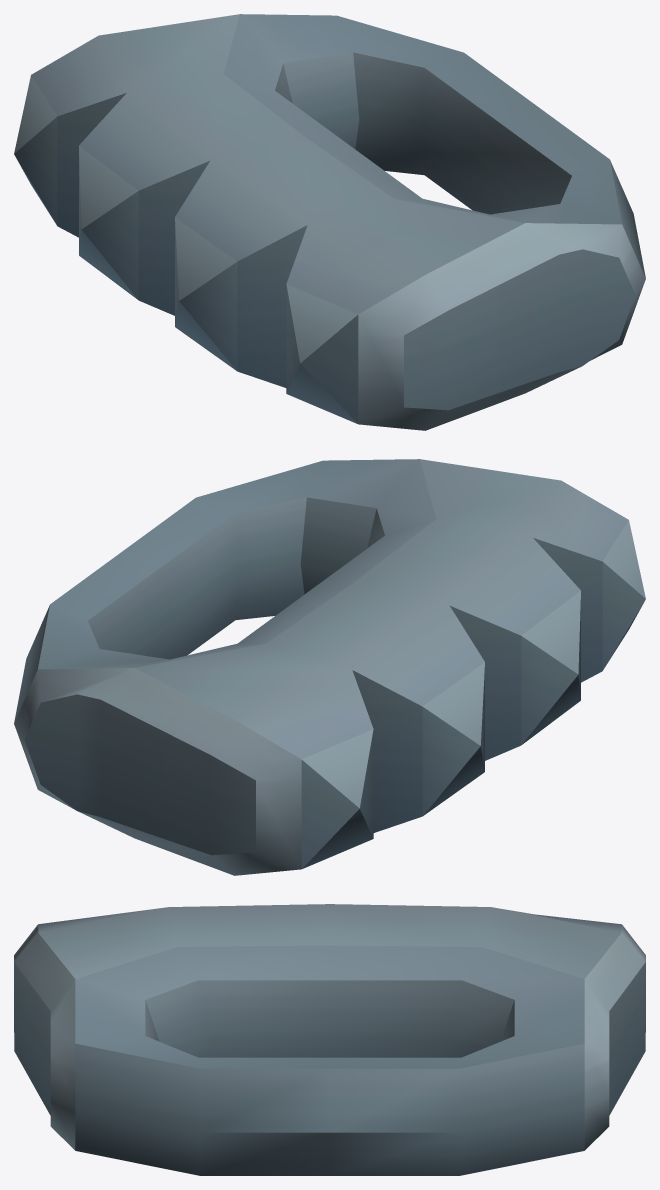
File: fistweapon_a.ef809ec3.glb
3 renders of one model, top to bottom at view 1: azimuth 30°, elevation 25°; view 2: azimuth 150°, elevation 25°; view 3: azimuth 270°, elevation 25°, orthographic. The views are drawn at different scales.
Parts seen in each view (by area): view 1: fistweapon_A; view 2: fistweapon_A; view 3: fistweapon_A.
Part boxes in pixels (bbox=[...]): fistweapon_A: bbox=[14, 14, 645, 430]; fistweapon_A: bbox=[14, 459, 645, 875]; fistweapon_A: bbox=[14, 904, 645, 1175].
Bounding box in the file's own units: 0.2268 × 0.0859 × 0.3233.
1 material, 1 textured.
